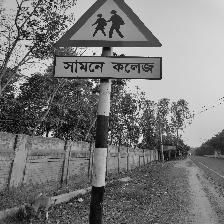College-in-front: (41, 0, 171, 100)
